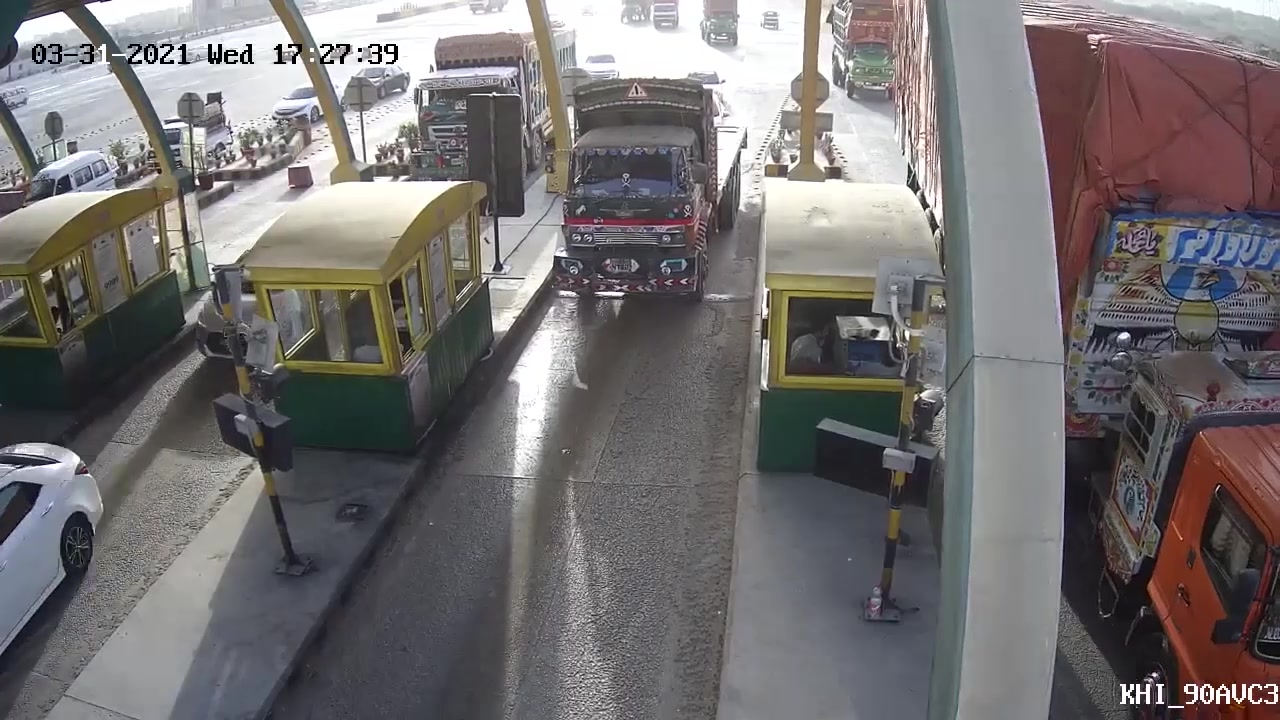F6: (537, 67, 755, 320)
